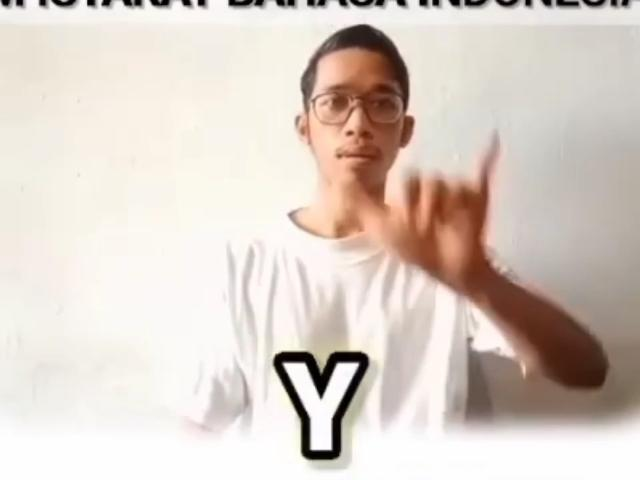Y: (341, 130, 501, 288)
